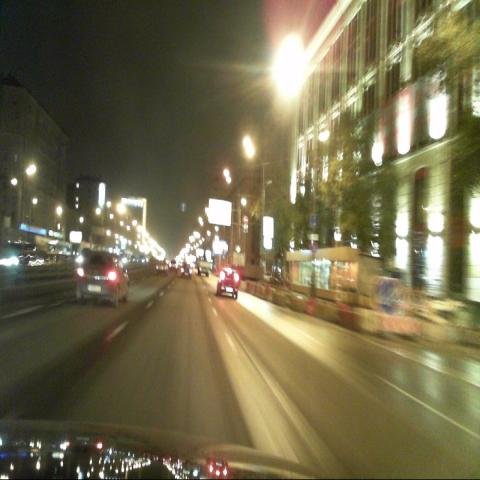4_2_2: (377, 281, 397, 315)
